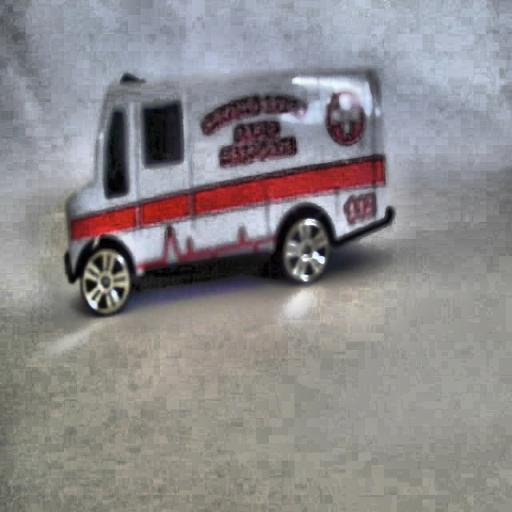ambulance: (63, 67, 393, 316)
